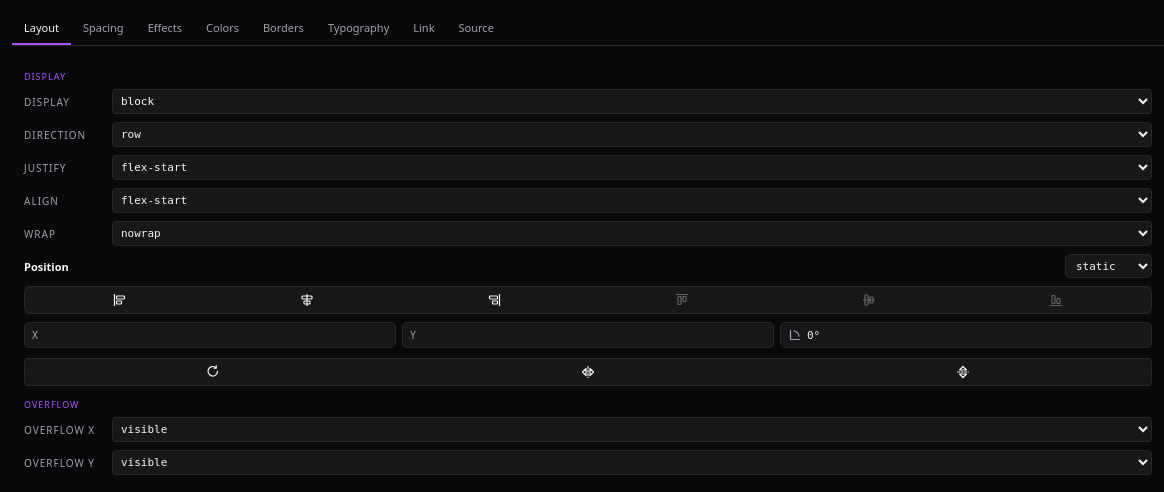
Test: Inspector button bar › shows the source snippet behind the Source tab
Expected: the text "index.html" is not shown
Click the tab "Source" at (476, 28), box [446,12,506,45]
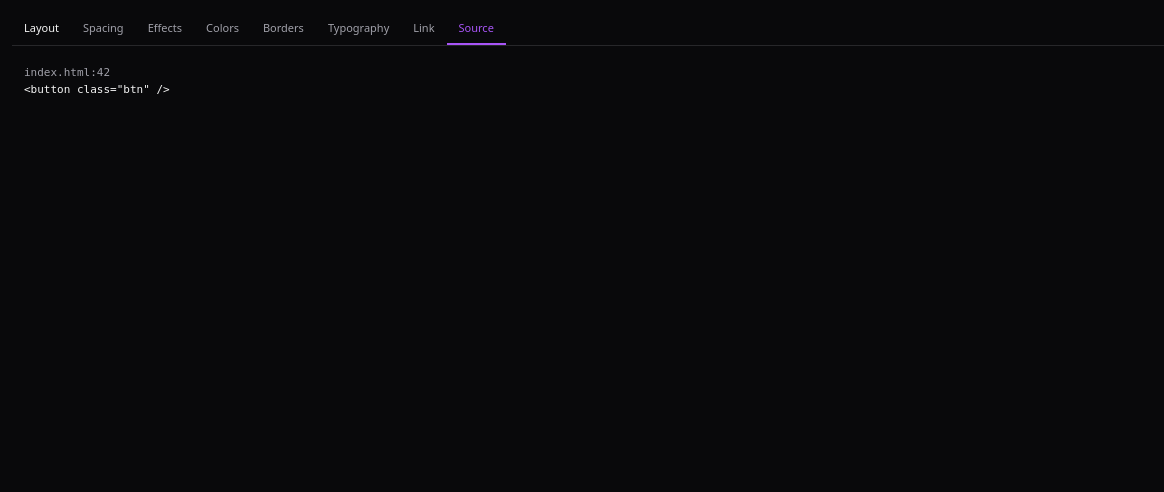
Expected: the text "index.html:42" is shown, [24,66,110,79]
Expected: the text "<button class=\"btn\" />" is shown, [24,83,170,96]
